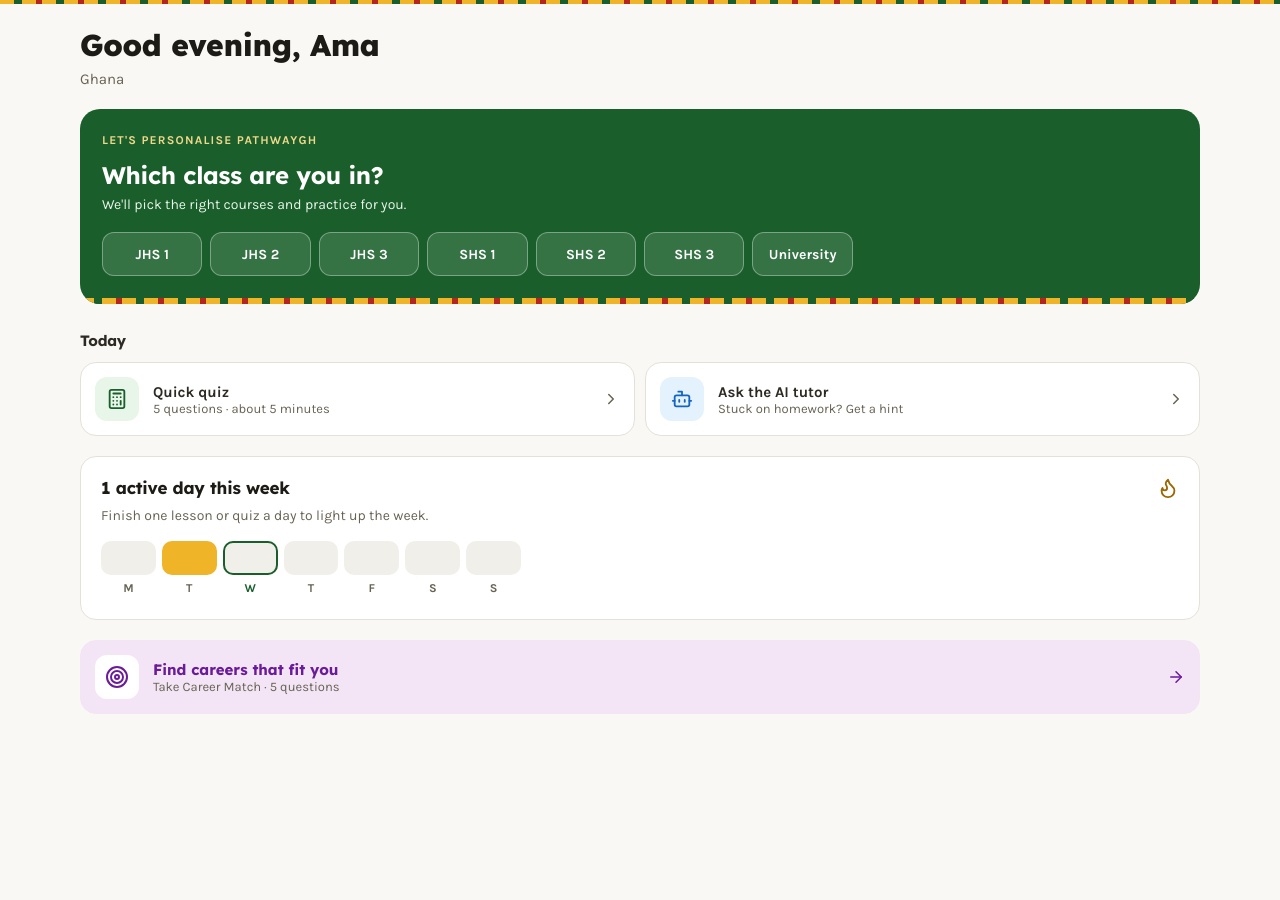
Test: Home (DashboardModule) › shows an error if the class cannot be saved
What coordinates should you click on to do the following:
click the button "SHS 1"
I would click on:
 (477, 254)
Its box is [427,232,528,276].
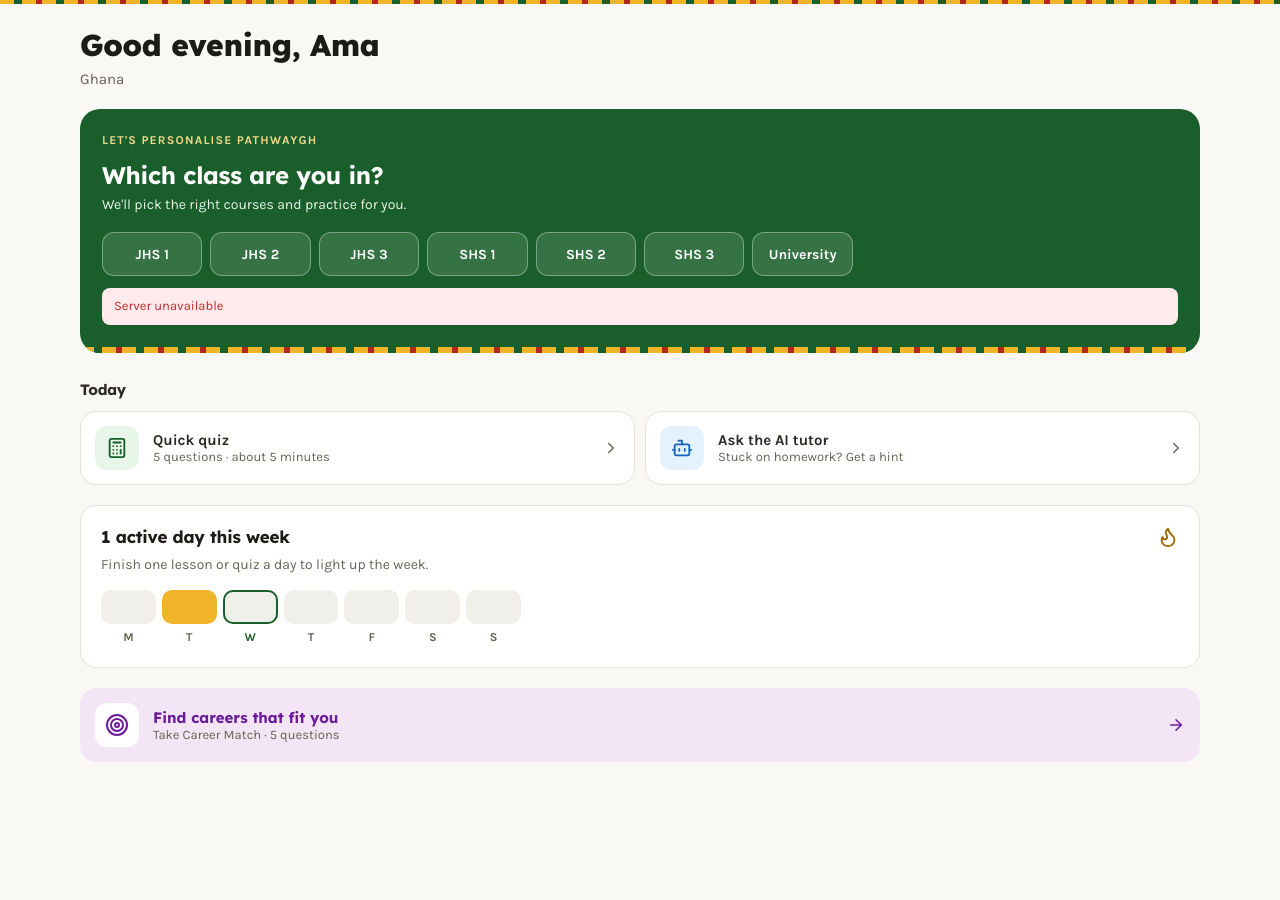
Expected: the message reads "Server unavailable", [114,298,224,313]
